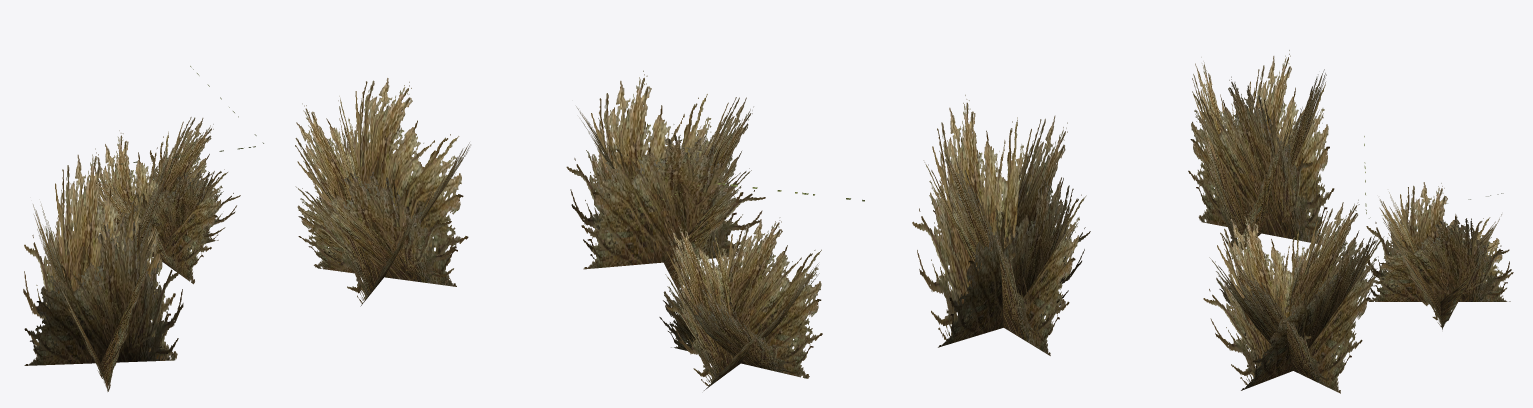
The model's file is mveg1b.glb.
3 renders of one model, left to right at view 1: azimuth 30°, elevation 25°; view 2: azimuth 150°, elevation 25°; view 3: azimuth 270°, elevation 25°, orthographic. The views are drawn at different scales.
Visible parts, largest first — view 1: _mveg1b; view 2: _mveg1b; view 3: _mveg1b.
Boxes of the visible parts, x1,y1,x2,y2 form: _mveg1b: [23, 66, 470, 391]; _mveg1b: [566, 70, 1090, 390]; _mveg1b: [1188, 50, 1513, 393].
Bounding box in the file's own units: 5 × 2.16 × 3.24.
1 material, 1 textured.
